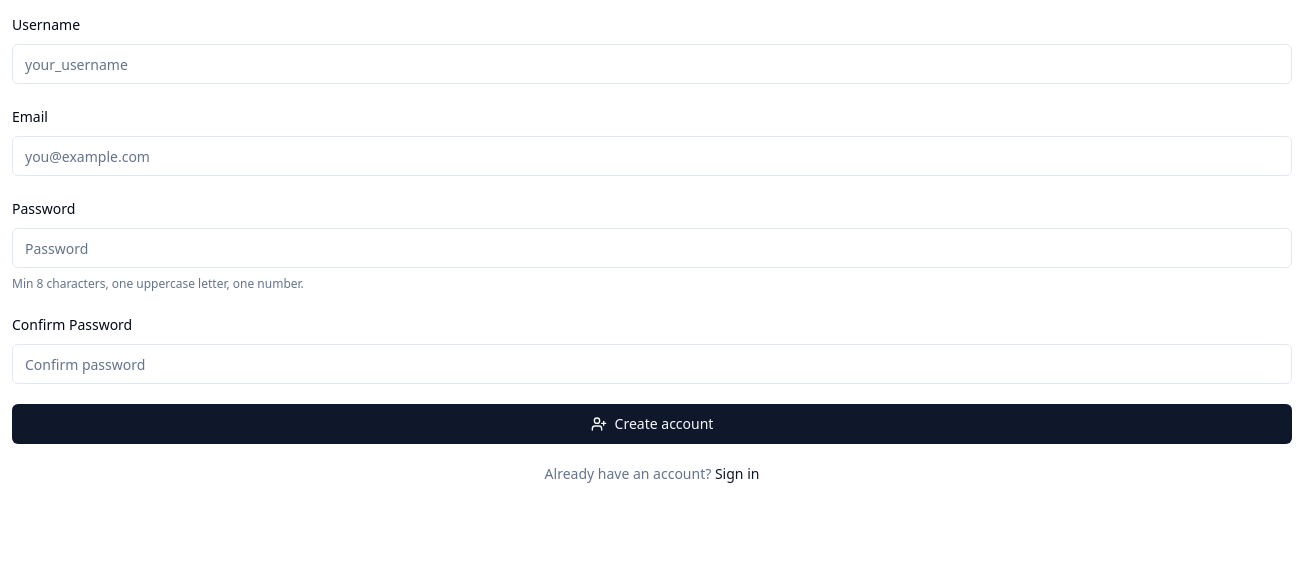
Scenario: RegisterForm › validates username minimum length
In the field labelled "Username": (652, 64) [12, 44, 1292, 84], type "ab"
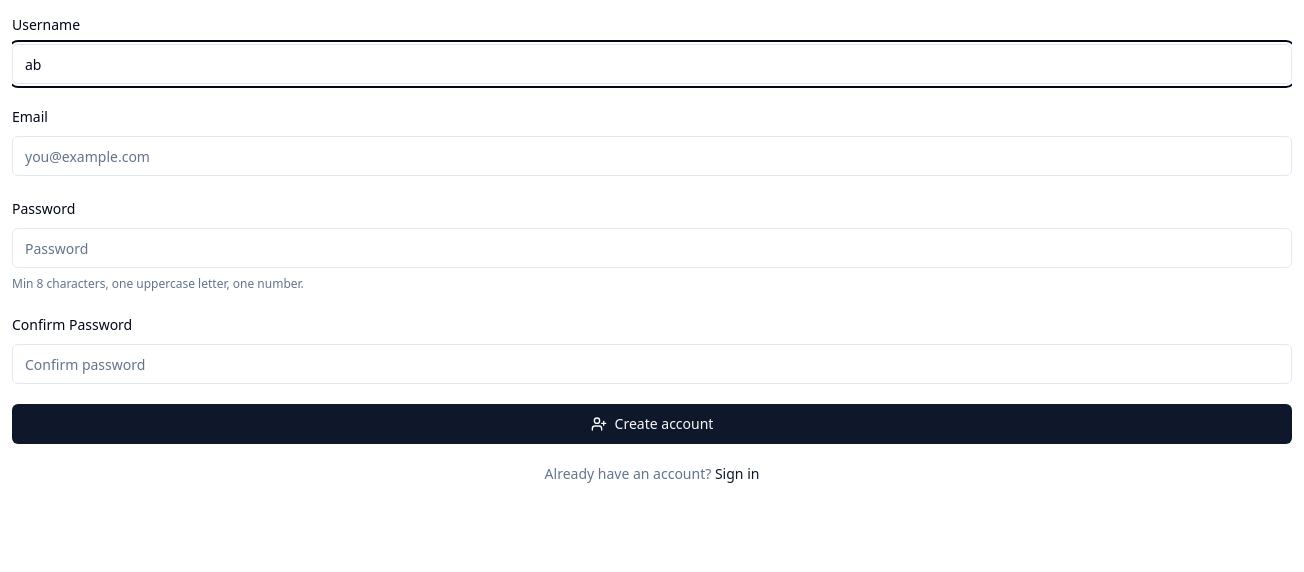
Click the button "Create account": click(652, 424) [12, 404, 1292, 444]
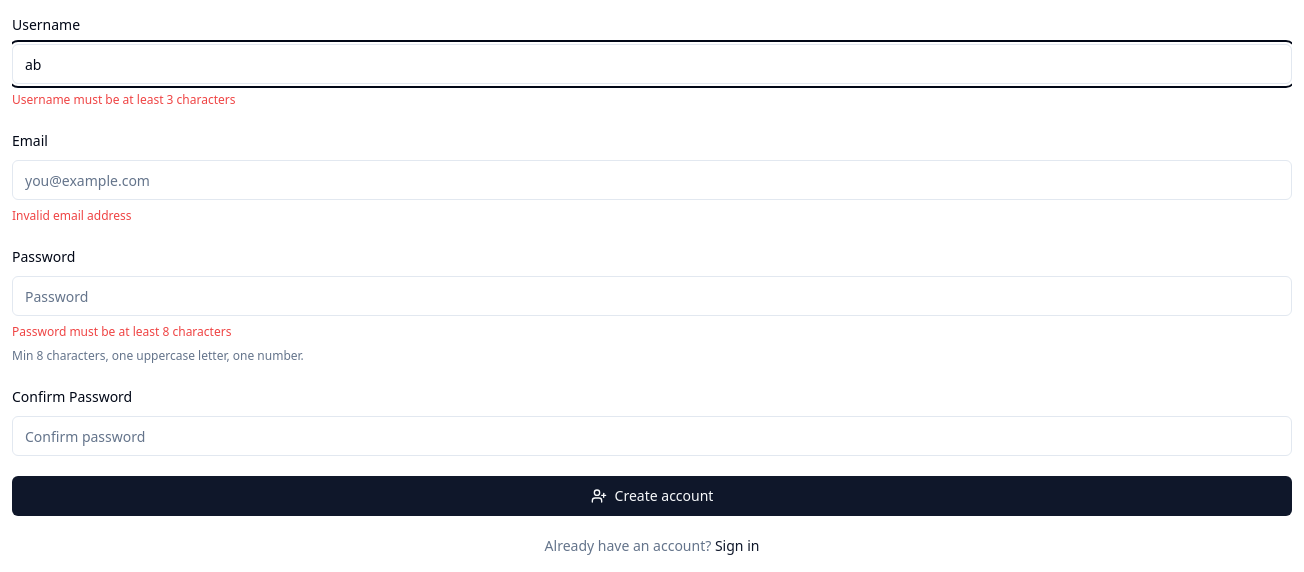
Now the text "Username must be at least 3 characters" is shown, box [12, 91, 236, 108]
